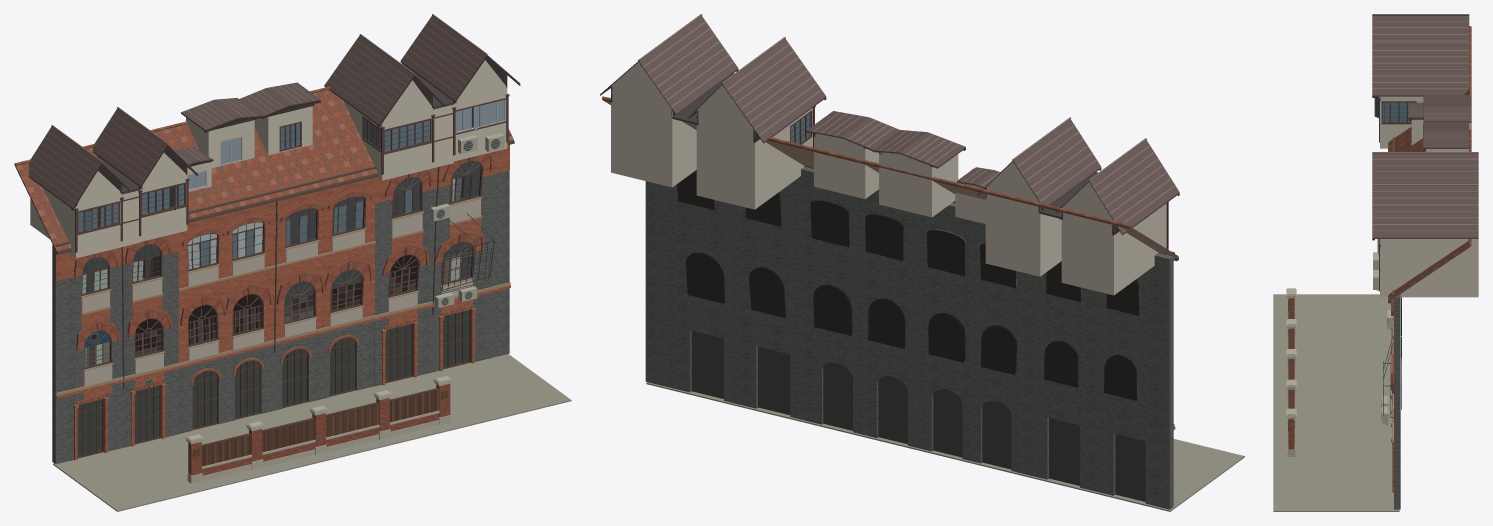
The model's file is hongkou-changchun-road-sassoon-brick-terrace-lod.glb.
3 renders of one model, left to right at view 1: azimuth 30°, elevation 25°; view 2: azimuth 150°, elevation 25°; view 3: azimuth 270°, elevation 25°, orthographic. The views are drawn at different scales.
Parts seen in each view (by area): view 1: 长春路沙逊楼群北立面八开间; view 2: 长春路沙逊楼群北立面八开间; view 3: 长春路沙逊楼群北立面八开间.
Part boxes in pixels (x1,y1,x2,y2): 长春路沙逊楼群北立面八开间: (14,14,571,511); 长春路沙逊楼群北立面八开间: (600,14,1244,511); 长春路沙逊楼群北立面八开间: (1273,14,1478,511).
Bounding box in the file's own units: 32.24 × 21.48 × 12.82.
62 materials, 3 textured.
